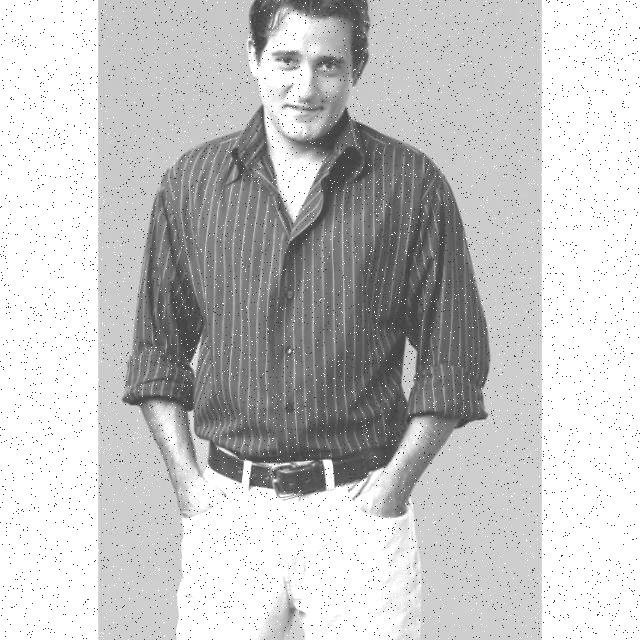real: (259, 23, 351, 143)
